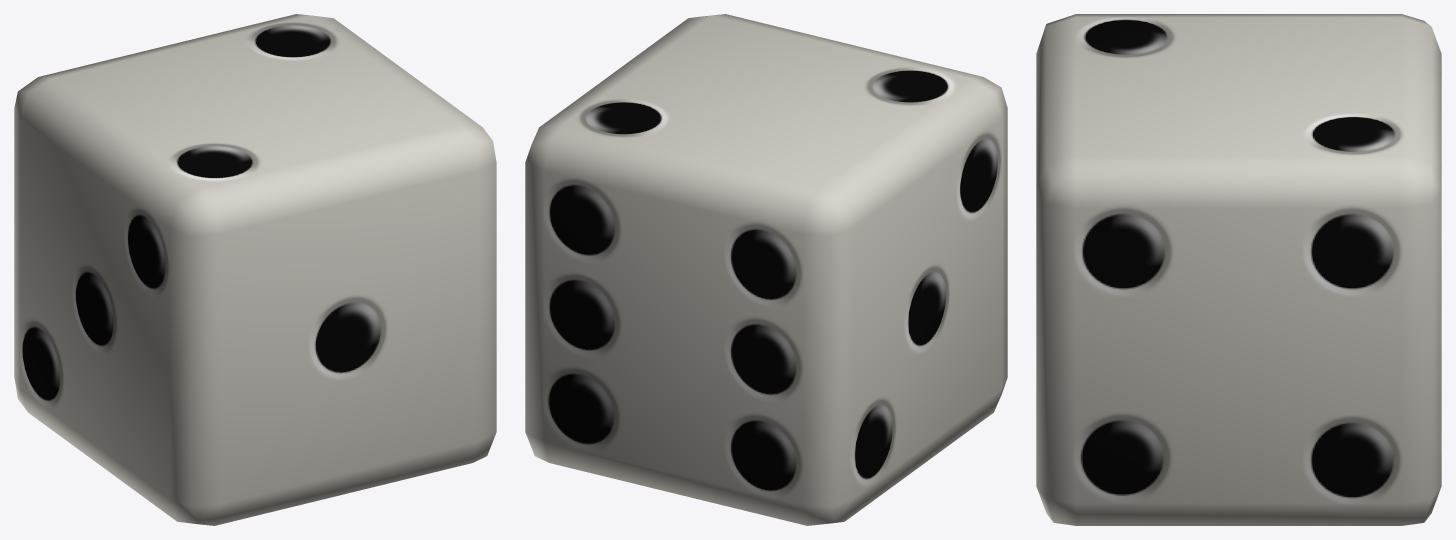
The model's file is diceC.FBX.
3 renders of one model, left to right at view 1: azimuth 30°, elevation 25°; view 2: azimuth 150°, elevation 25°; view 3: azimuth 270°, elevation 25°, orthographic. The views are drawn at different scales.
Parts seen in each view (by area): view 1: diceC; view 2: diceC; view 3: diceC.
Boxes of the visible parts, box(x1,y1,x2,y2) form: diceC: box(14, 14, 496, 525); diceC: box(525, 14, 1007, 525); diceC: box(1036, 14, 1441, 525).
Bounding box in the file's own units: 277 × 277 × 277.
6 materials, 6 textured.
